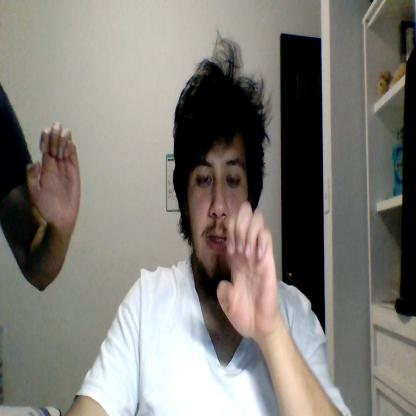E: (217, 200, 278, 340), (27, 123, 81, 228)
